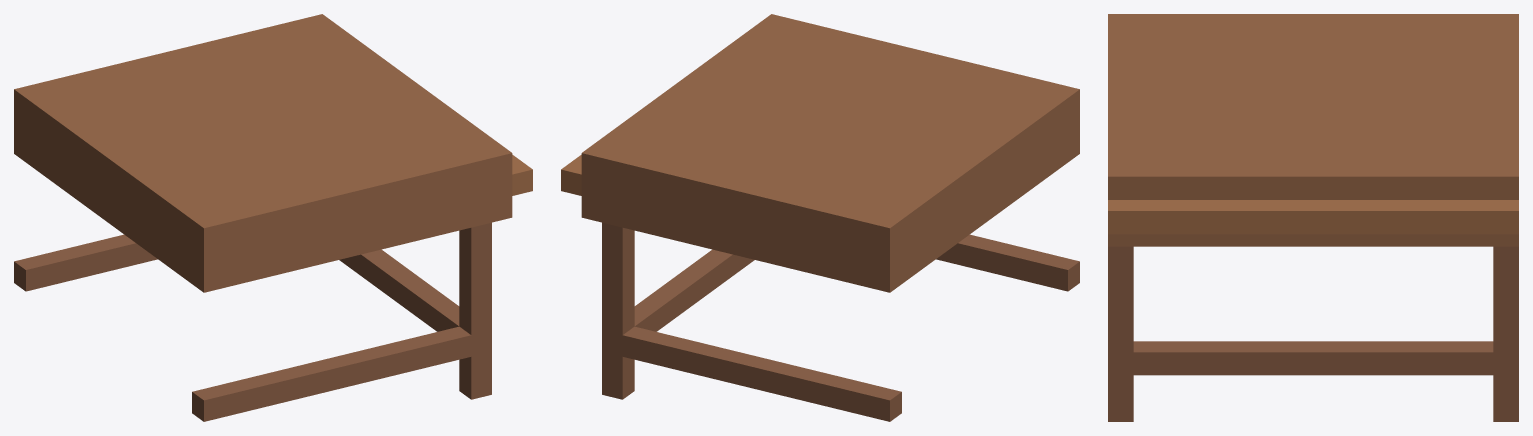
The model's file is Interior_Furniture-27.obj.
The picture shows the model from 3 angles, left to right: view 1: azimuth 30°, elevation 25°; view 2: azimuth 150°, elevation 25°; view 3: azimuth 270°, elevation 25°; orthographic projection. The views are drawn at different scales.
Size of the model in its own units: 1.6 by 1.1 by 1.6.
1 material, 1 textured.
